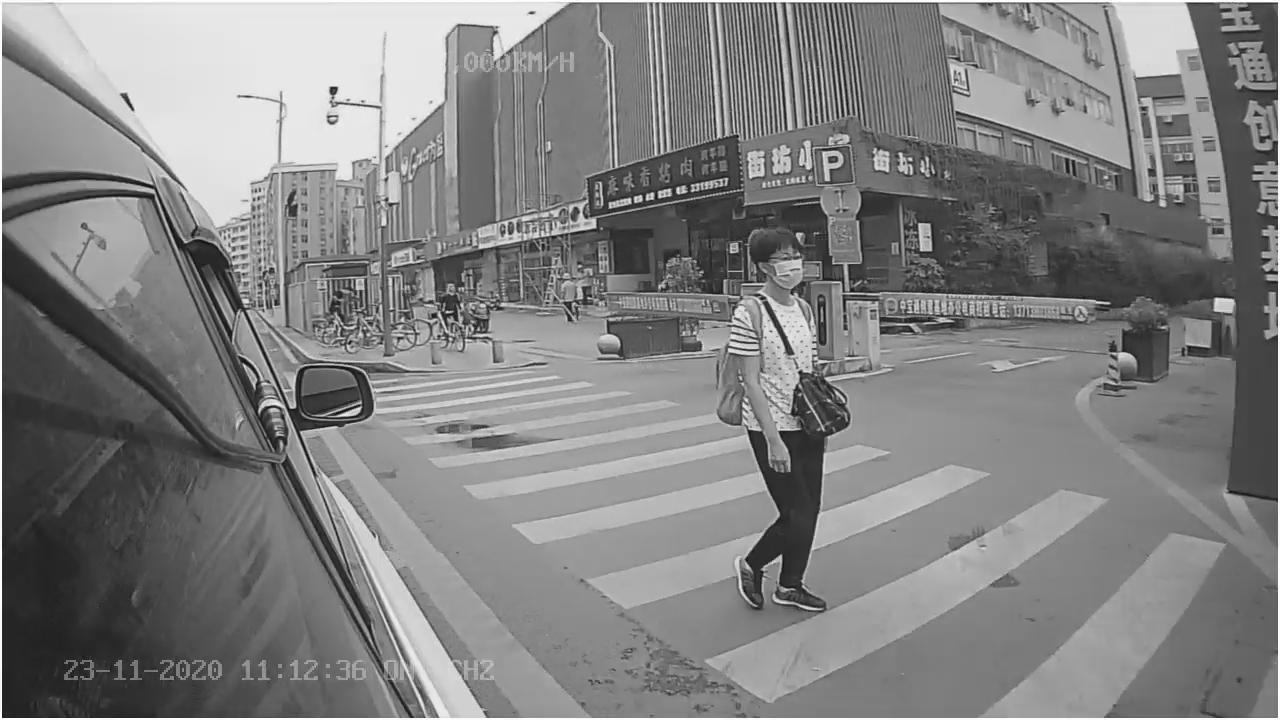person: (712, 227, 844, 619)
